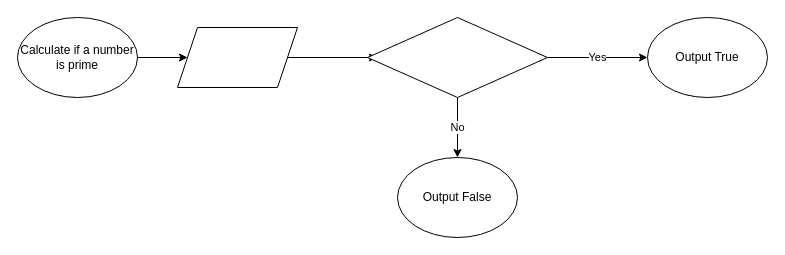
Some shapes in this 785 by 255 pixel diagram are drawn without their labels. Each missing label, with the centre of its shape:
"Get a number n as imput" goes at (x=237, y=57).
"If n%i != 0 for i between 2 and sqrt(n)" goes at (x=457, y=57).
